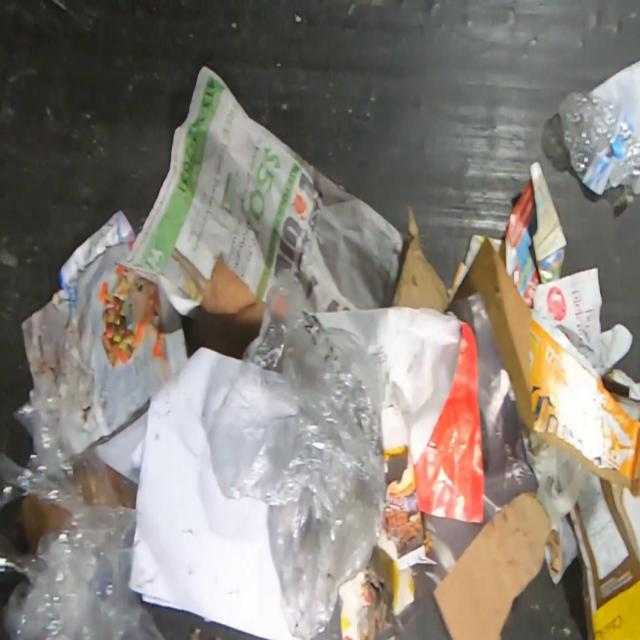cardboard: (453, 234, 640, 493), (433, 490, 562, 640), (569, 469, 640, 638), (194, 254, 266, 360), (388, 212, 453, 313), (609, 392, 640, 424)
rigid_plastic: (560, 93, 640, 195)
soft_plastic: (210, 268, 387, 639), (0, 394, 166, 639)
